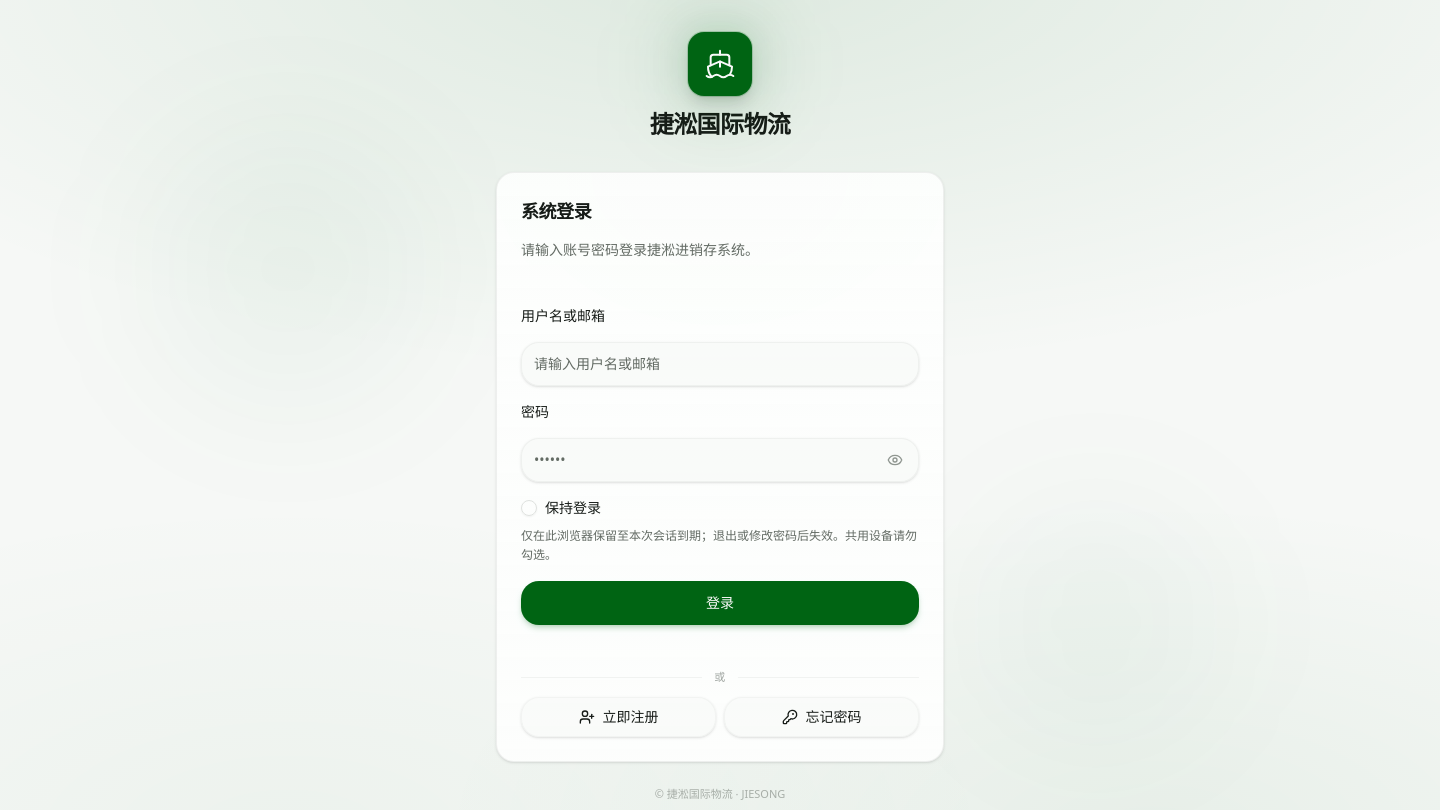
Test: LoginPage 交互逻辑 › 触发登录限流时展示可操作提示
Expected: the button "登录" is enabled, top-left (521, 581), bottom-right (919, 625)
Type "admin" into the field labelled "用户名或邮箱". click: (720, 364)
box: top-left (521, 342), bottom-right (919, 386)
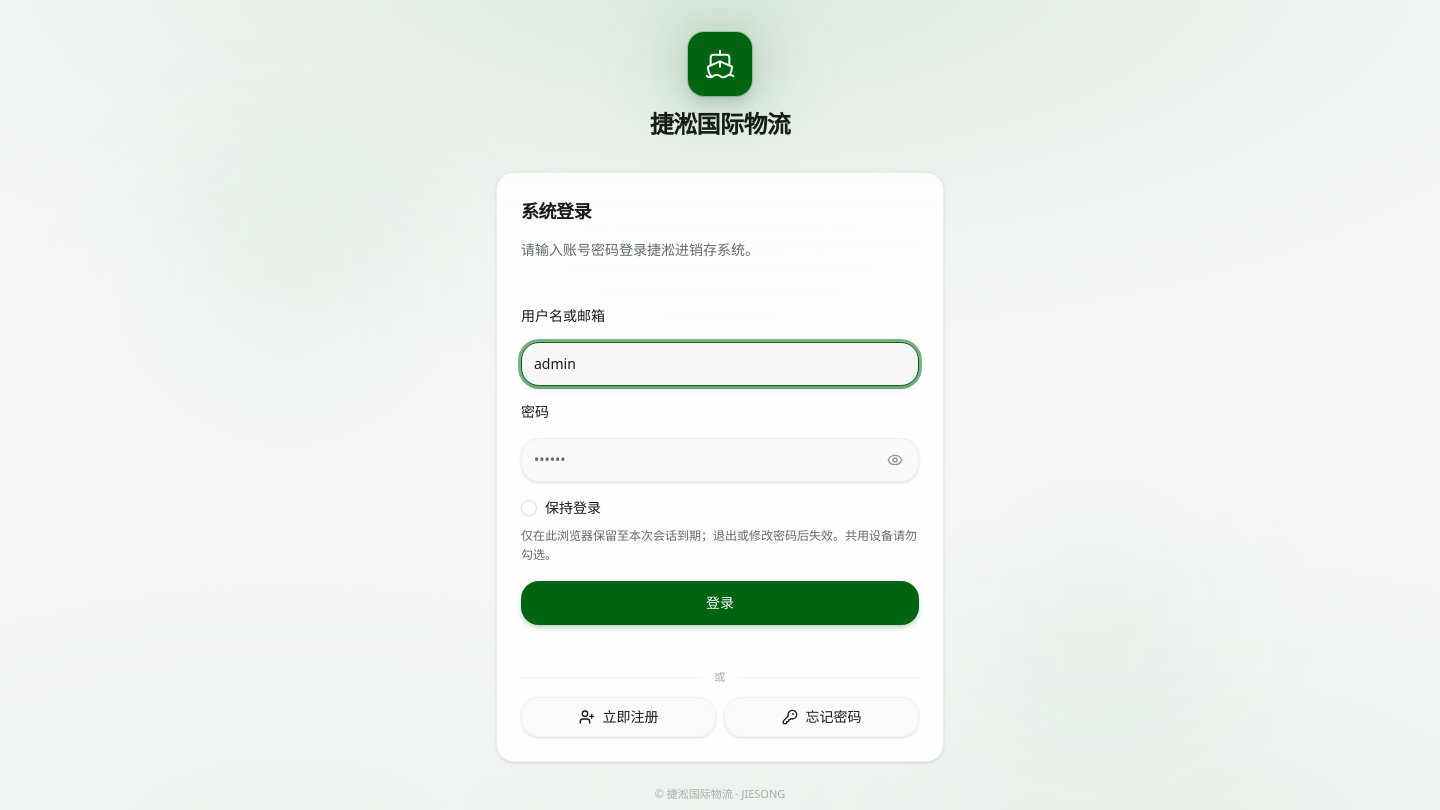
Type "123456" into the password field labelled "密码". click: (720, 460)
box: top-left (521, 438), bottom-right (919, 482)
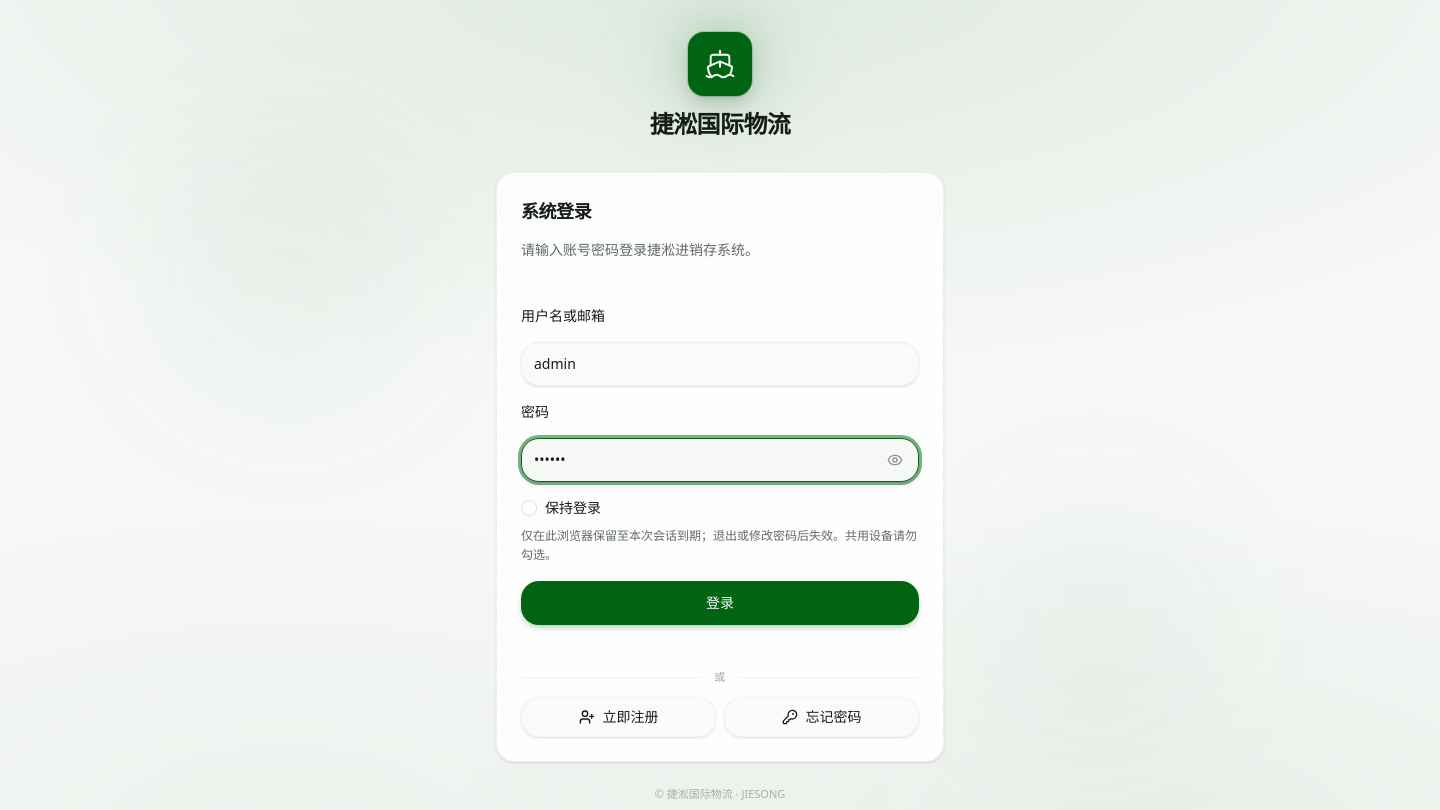
Click the button "登录". click: (720, 603)
box: top-left (521, 581), bottom-right (919, 625)
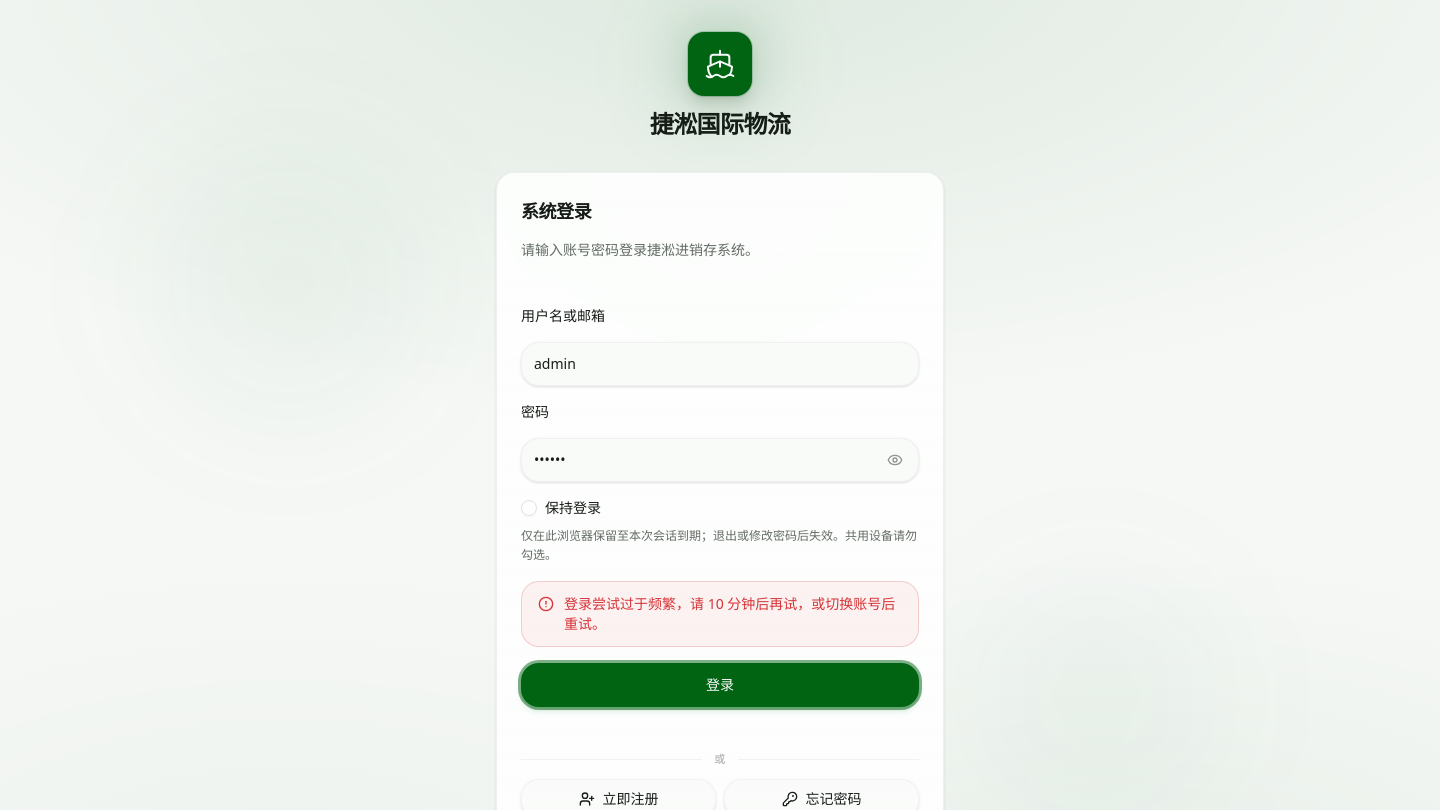
Now the text "登录尝试过于频繁，请 10 分钟后再试，或切换账号后重试。" is shown, box top-left (564, 594), bottom-right (902, 634)
